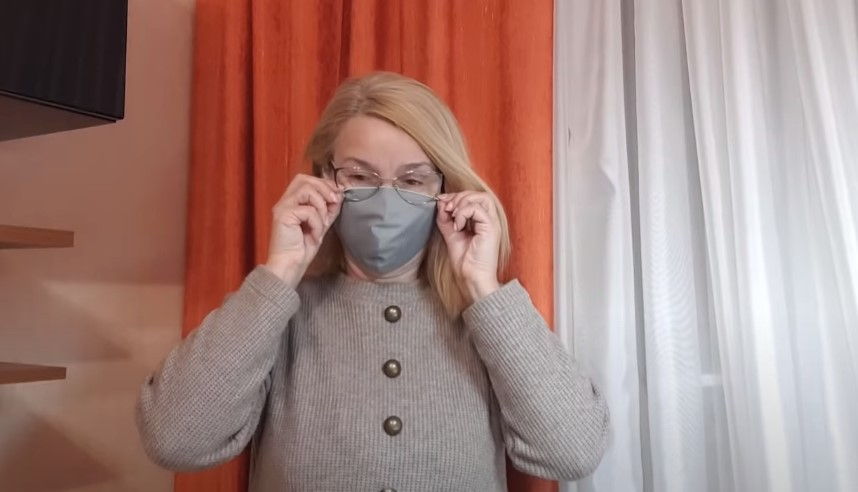face_with_mask: (308, 76, 457, 284)
